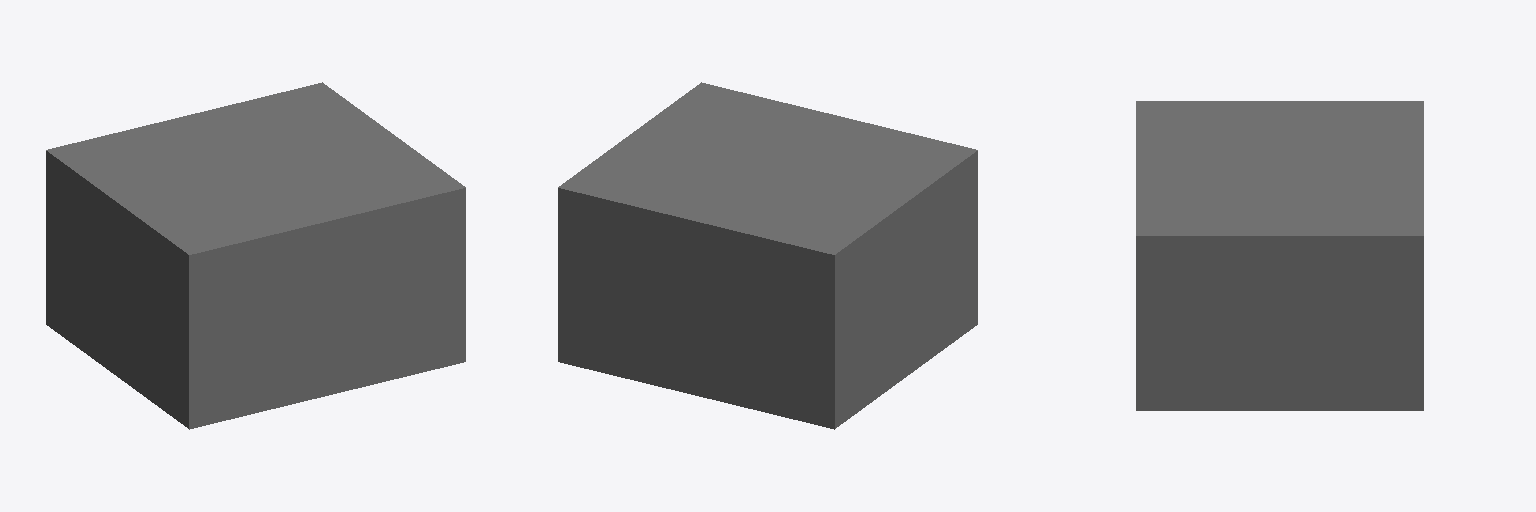
The model's file is partydog-small.obj.
The picture shows the model from 3 angles: view 1: azimuth 30°, elevation 25°; view 2: azimuth 150°, elevation 25°; view 3: azimuth 270°, elevation 25°; orthographic projection.
Bounding box in the file's own units: 5.66 × 3.4 × 5.09.